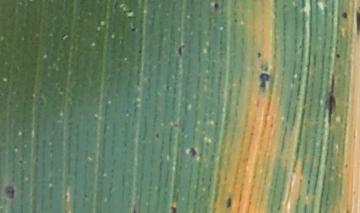tarspot: (323, 72, 337, 127), (258, 71, 271, 90), (3, 184, 17, 200), (354, 4, 360, 36), (224, 195, 234, 210), (176, 44, 186, 57), (187, 146, 197, 158), (281, 2, 289, 13), (168, 204, 177, 213), (212, 2, 220, 11), (129, 25, 138, 33), (255, 50, 263, 59), (334, 51, 341, 61), (340, 11, 347, 20), (16, 158, 25, 165), (63, 193, 70, 202), (172, 122, 179, 130), (300, 1, 307, 9), (154, 131, 160, 140), (343, 161, 349, 170), (131, 205, 137, 213), (232, 17, 238, 24), (306, 178, 310, 186), (137, 49, 143, 54)
